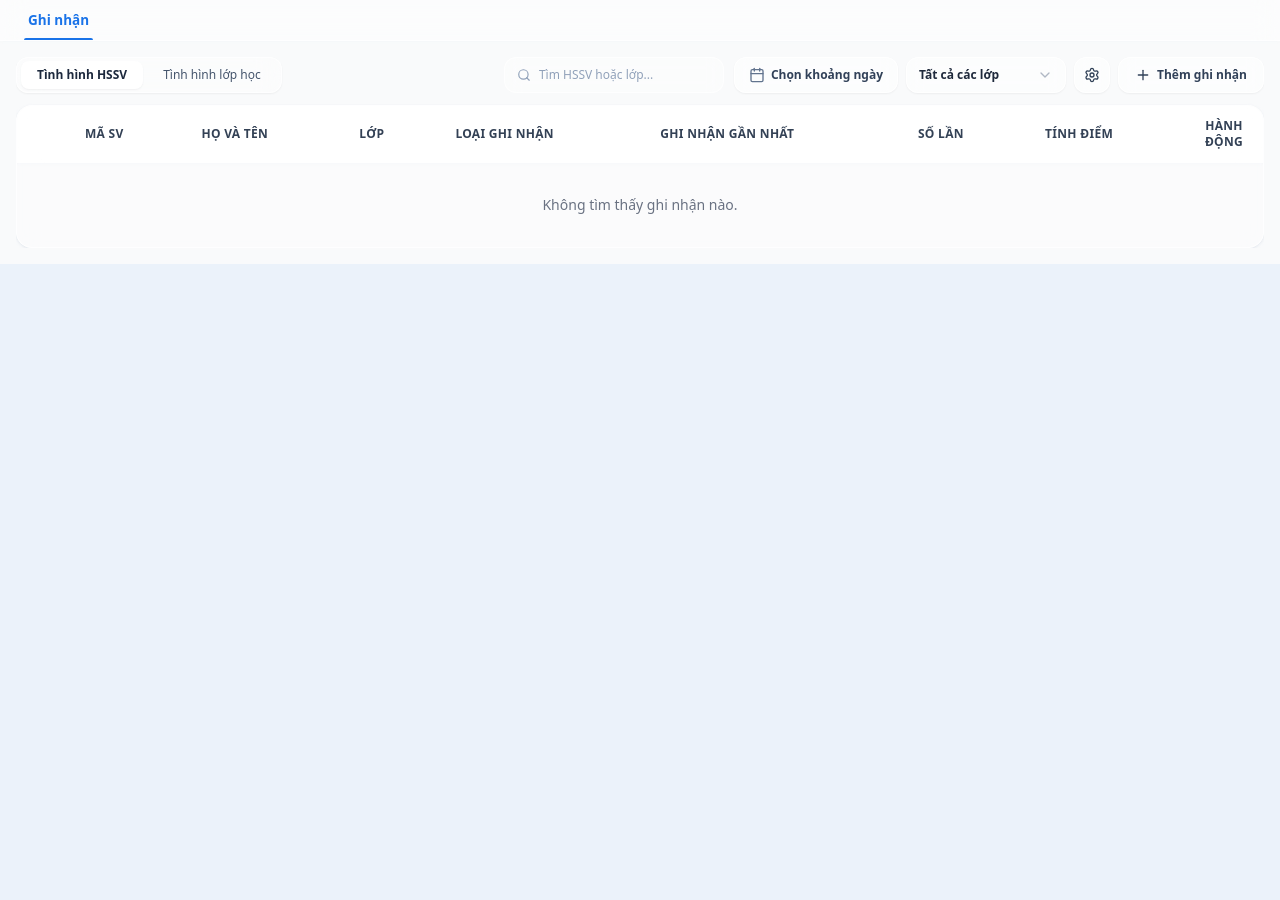
StudentRecordPage Infinite Scroll › keeps the trash empty state and navigation controls accessible
The width and height of the screenshot is (1280, 900).
Click the button titled "Cấu hình tiêu chí vắng mặt" at (1092, 75), box [1074,57,1110,93]
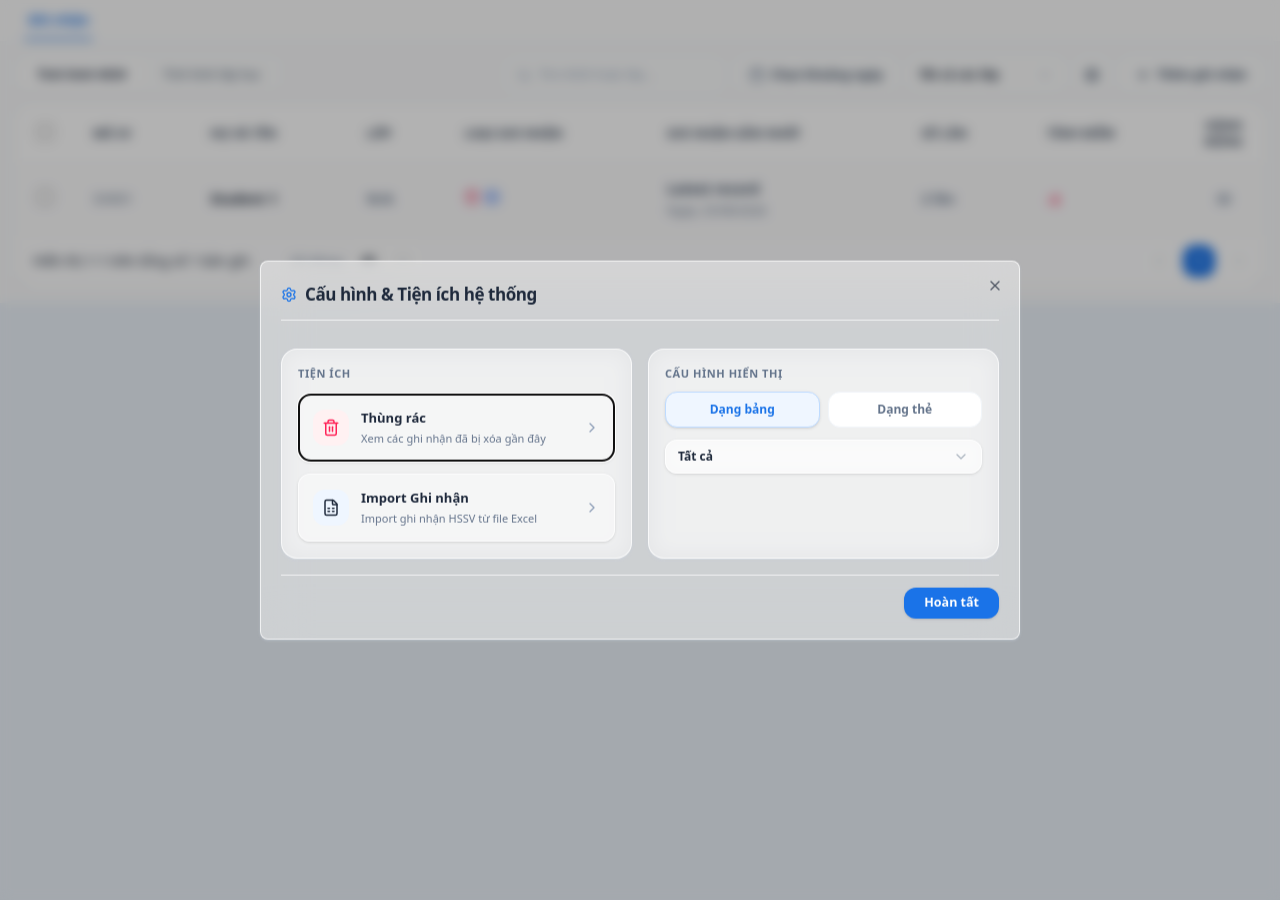
Click the text "Thùng rác" at (393, 418), box [361,409,426,427]
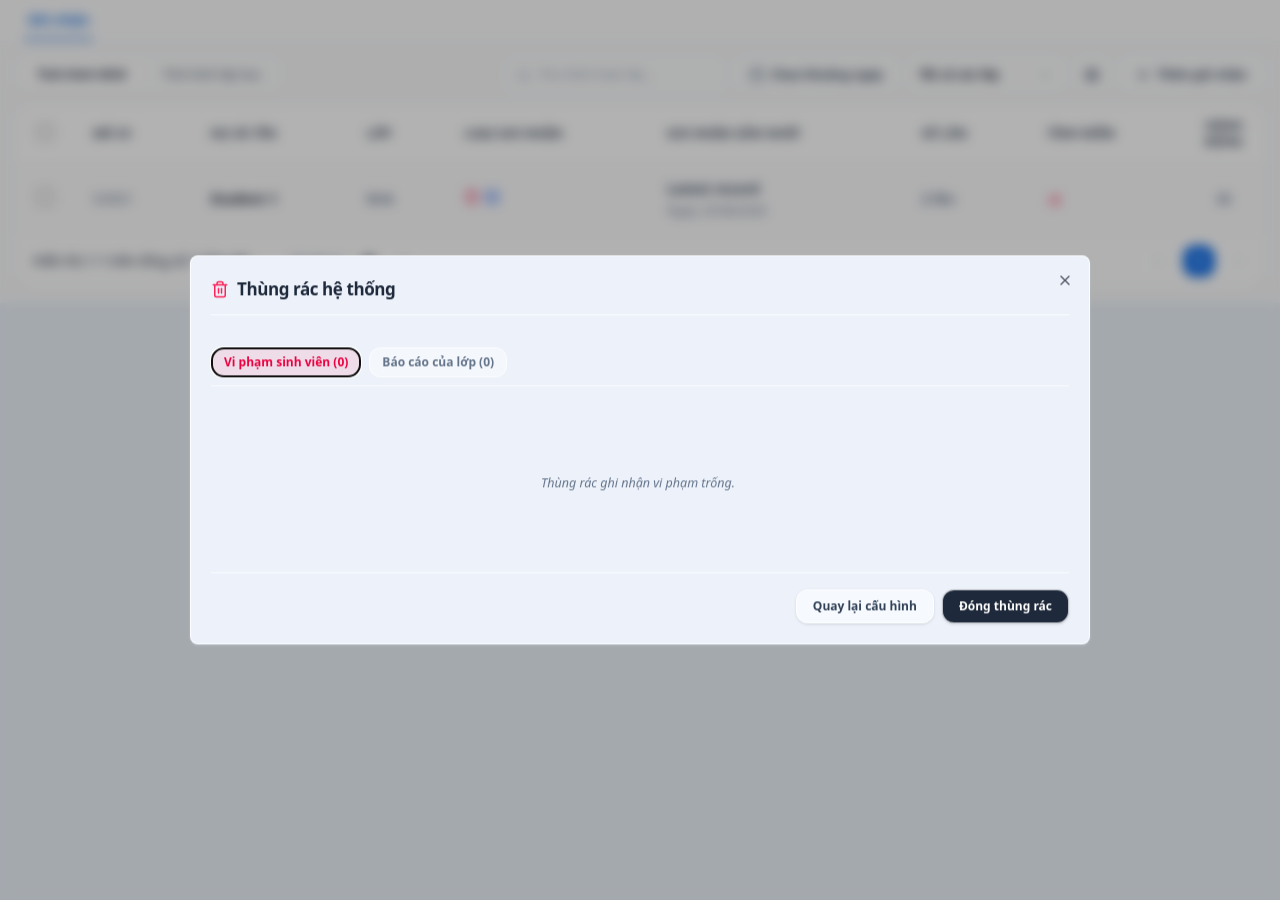
Now the text "Thùng rác ghi nhận vi phạm trống." is shown, box [541,474,735,491]
Click the tab "Báo cáo của lớp (0)" at (438, 362), box [369,347,507,377]
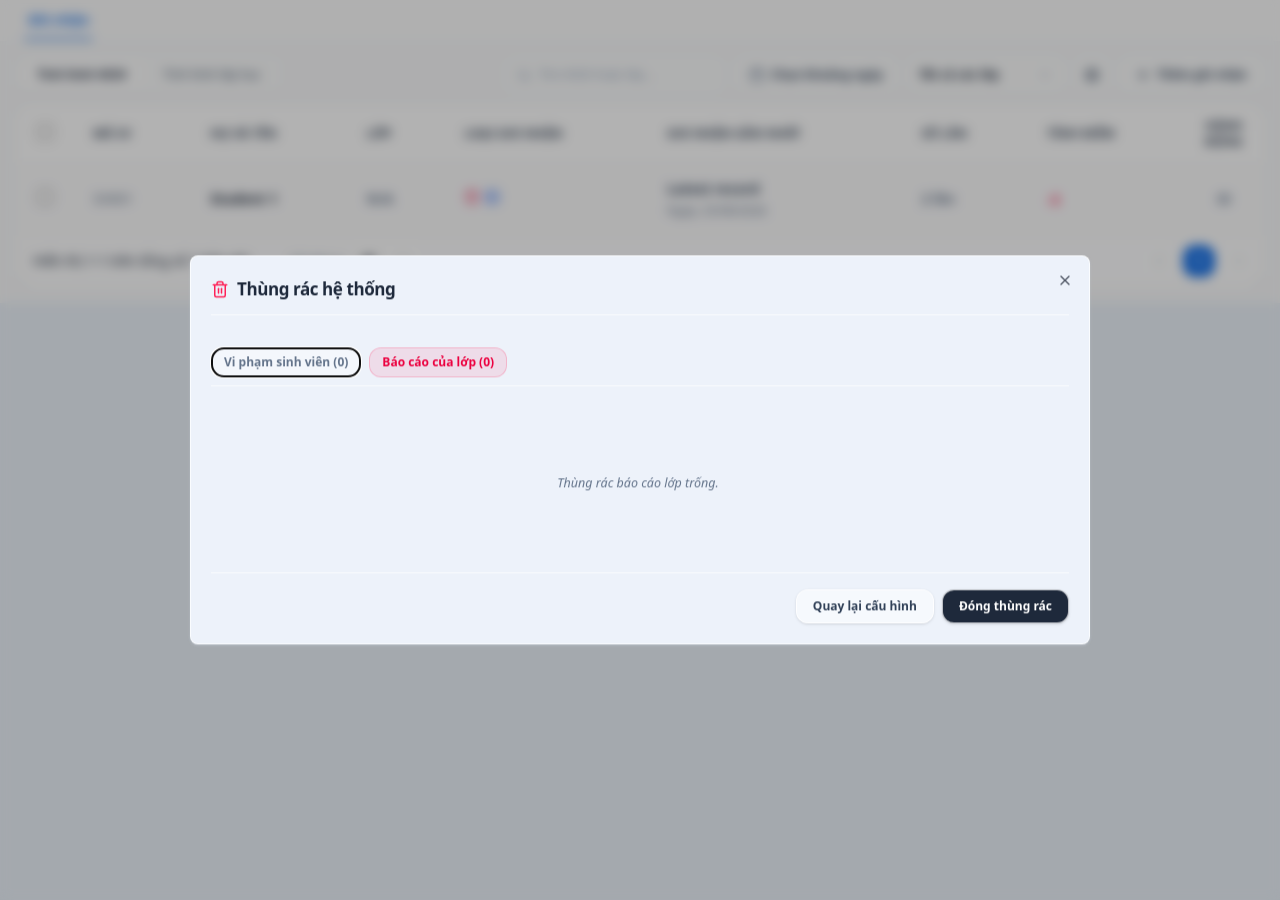
Now the button "Quay lại cấu hình" is shown, box [796,590,934,624]
Now the button "Đóng thùng rác" is shown, box [942,590,1069,624]
Now the text "Thùng rác báo cáo lớp trống." is shown, box [557,474,719,491]
